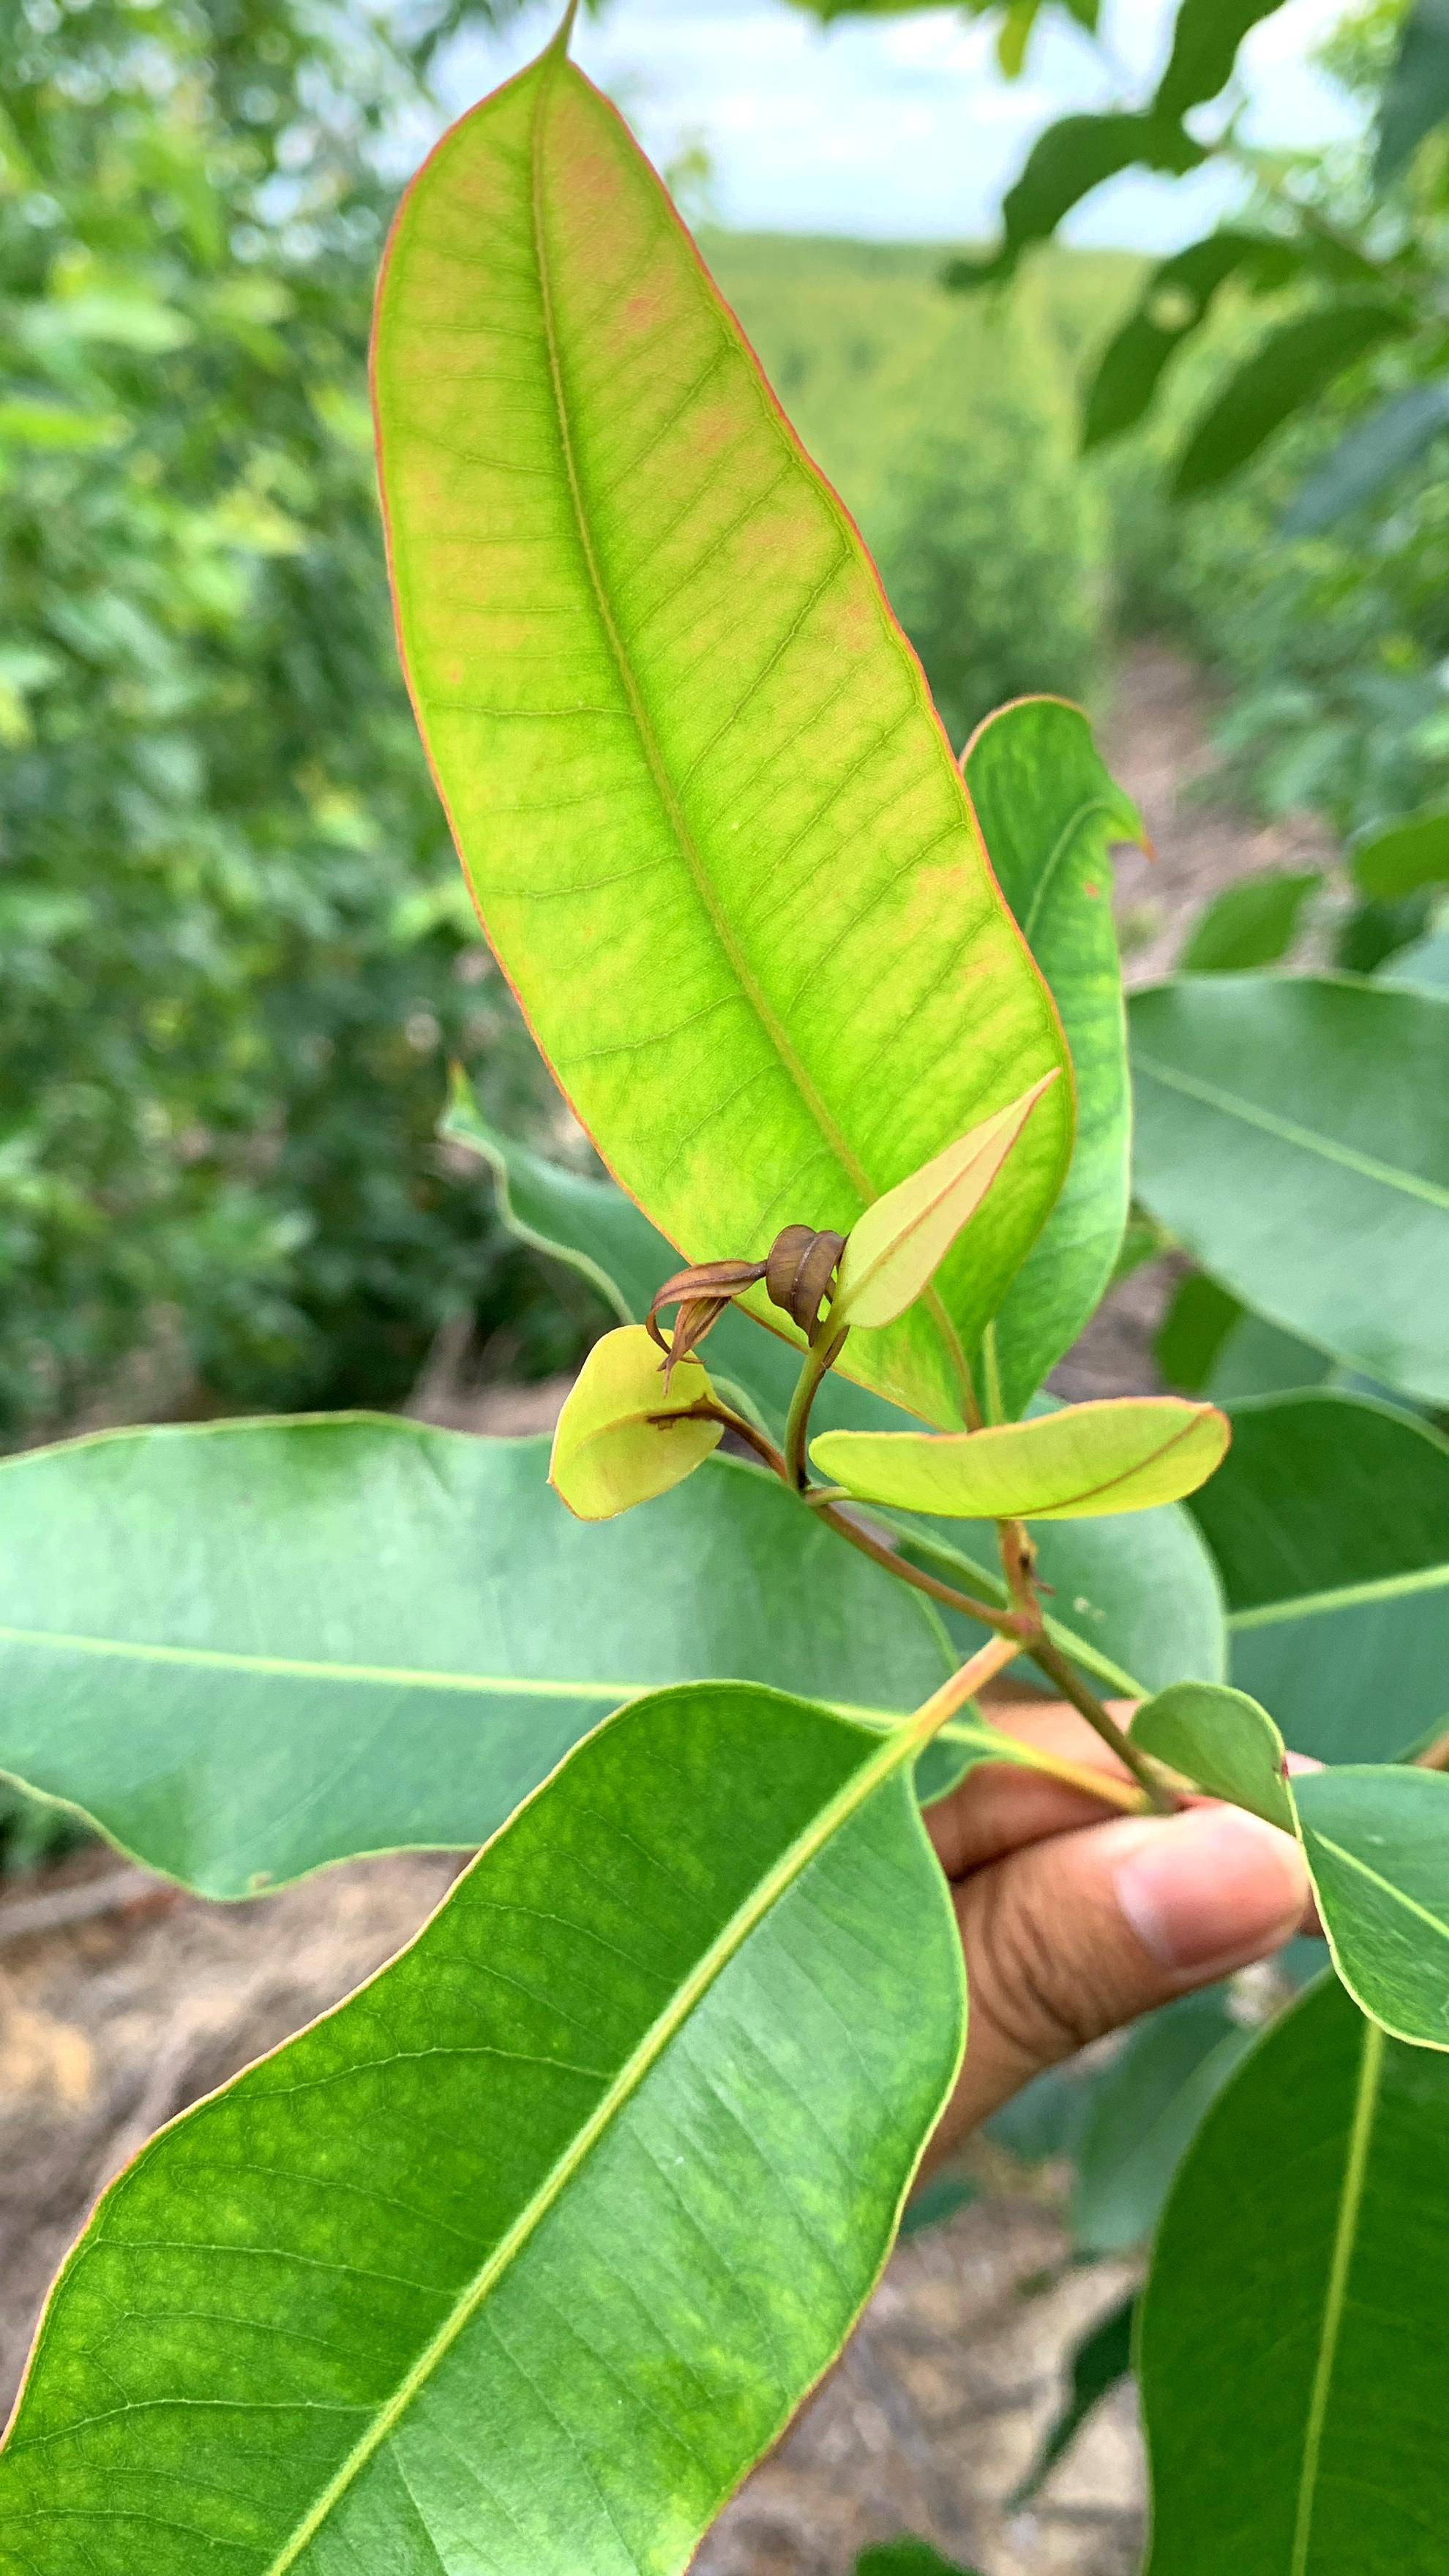Helopeltis-Withered Sprout: (623, 1219, 872, 1382)
